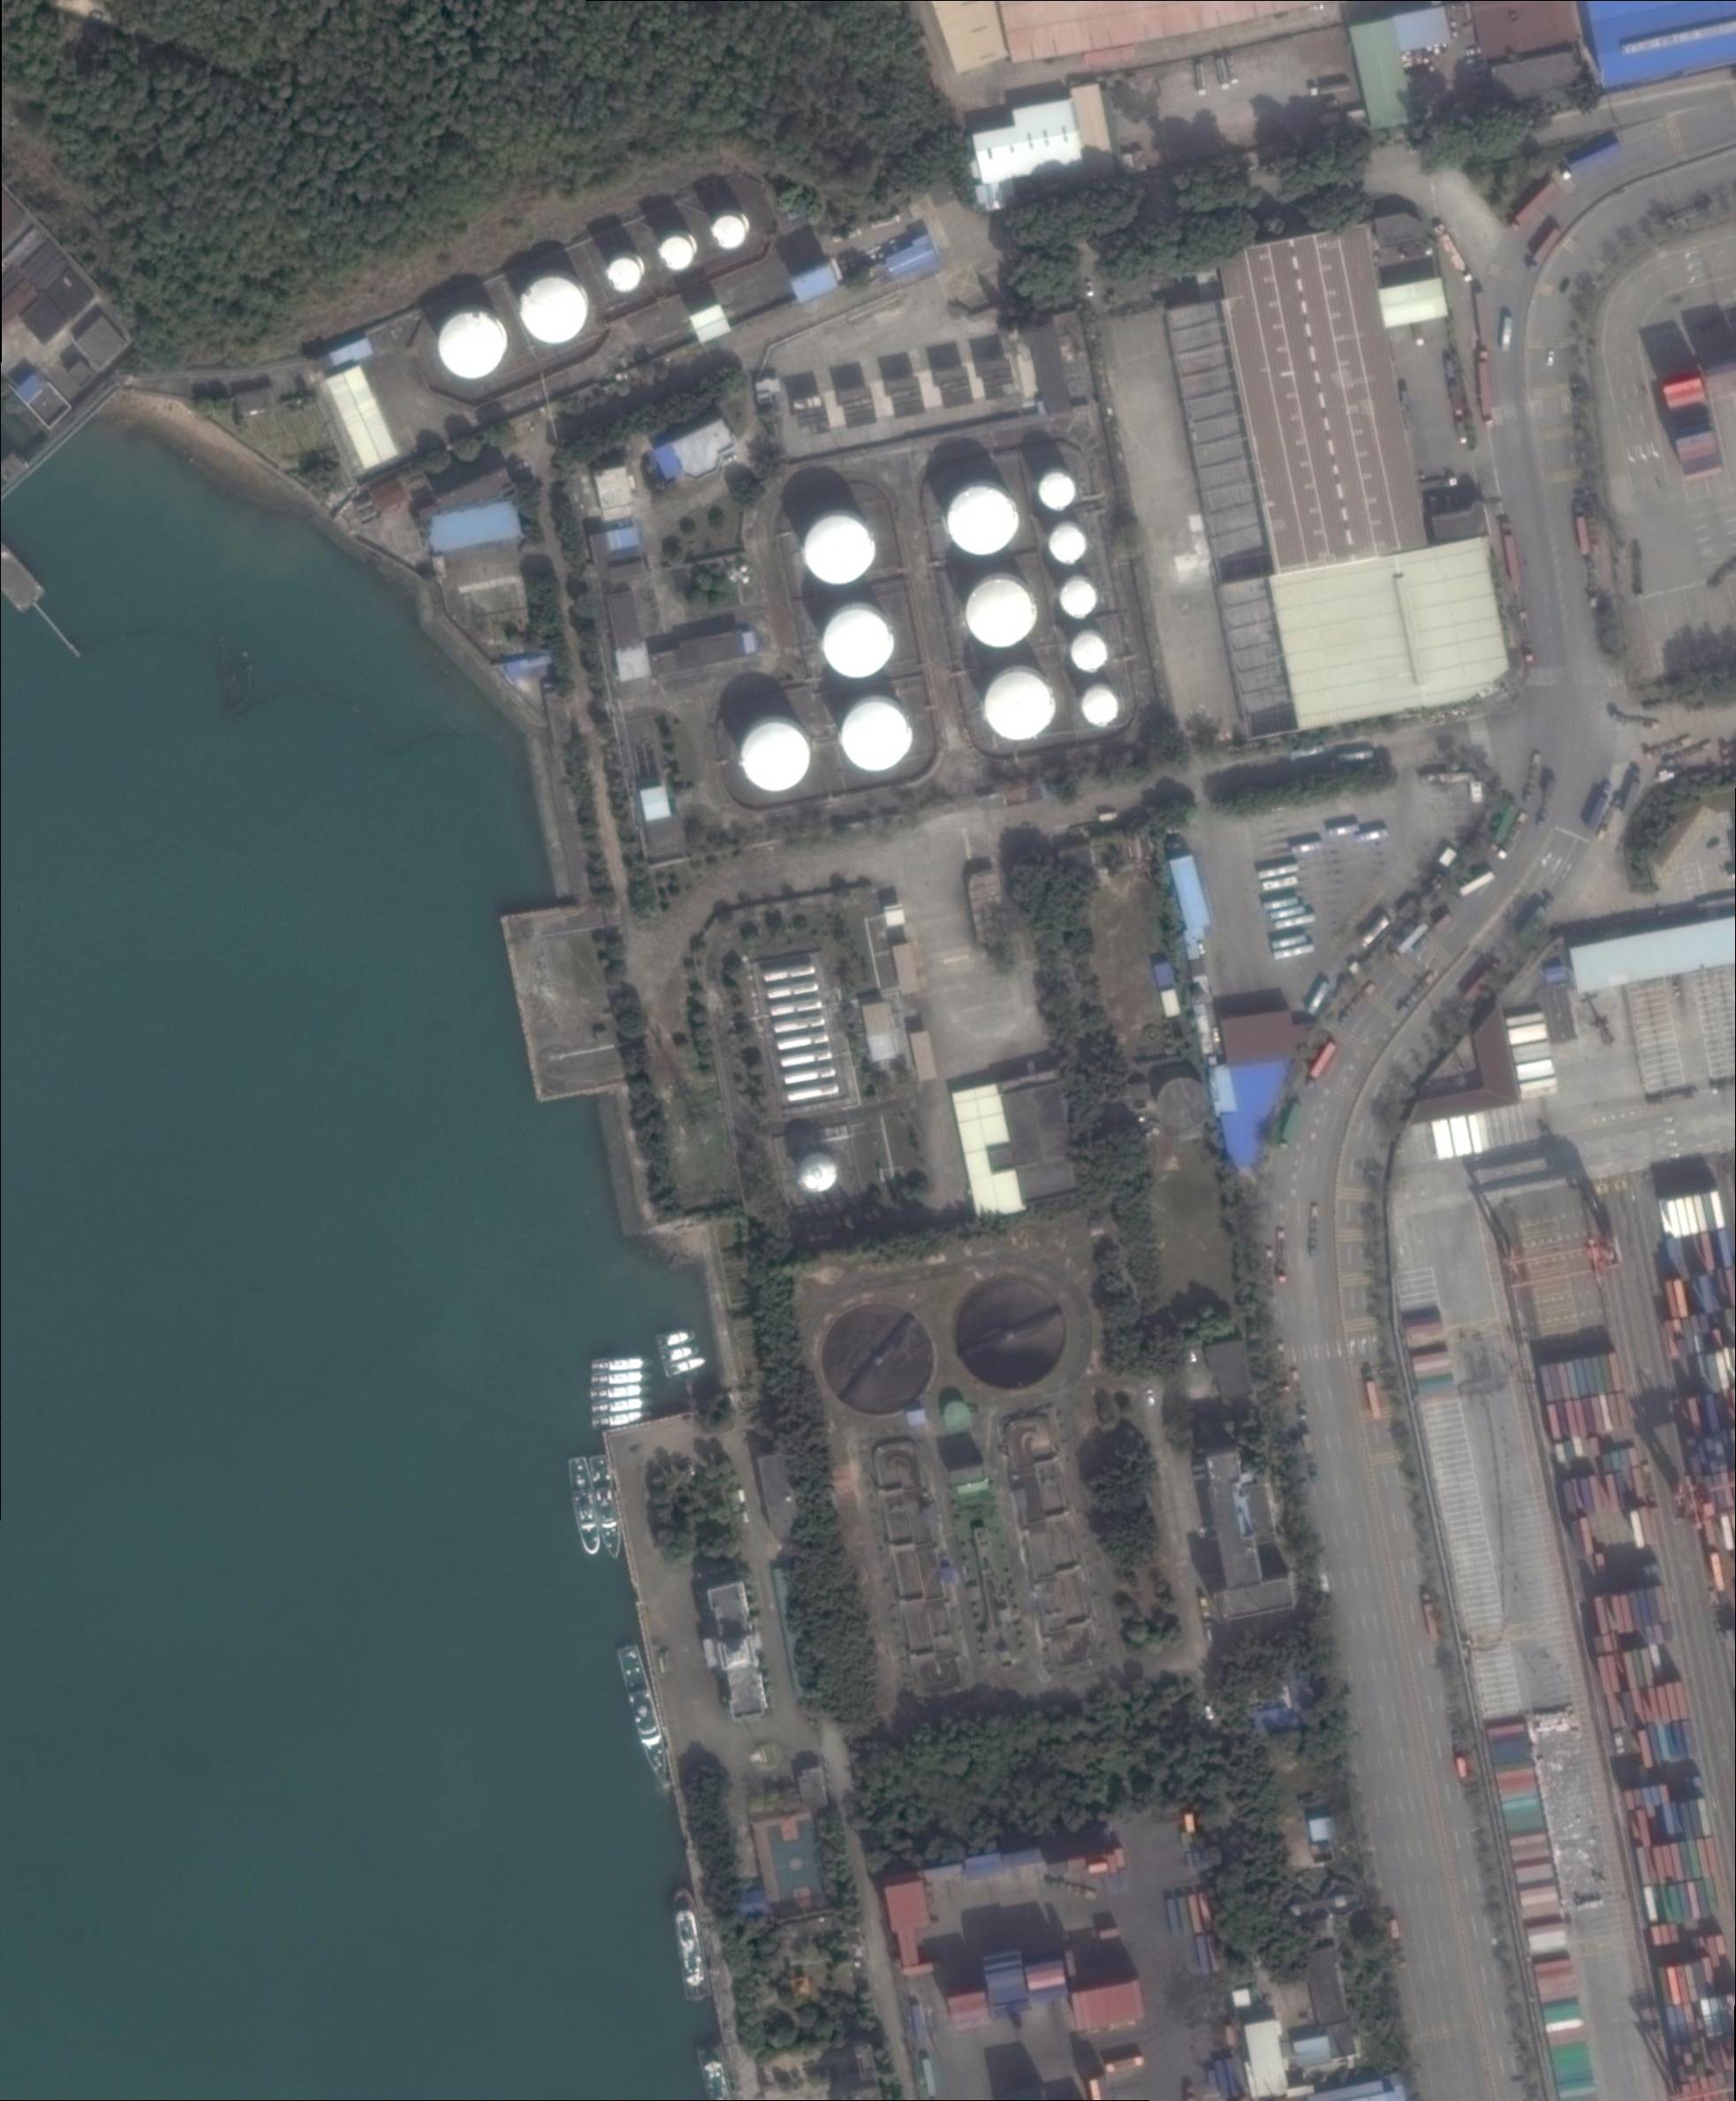large vehicle: (1434, 223, 1474, 284), (1511, 181, 1558, 230), (1562, 141, 1621, 178), (1398, 970, 1438, 1017), (1497, 811, 1530, 860), (1391, 921, 1431, 962), (1338, 982, 1377, 1023), (1305, 1042, 1338, 1087), (1528, 229, 1562, 270), (1500, 522, 1521, 588), (1586, 784, 1614, 831), (1281, 1103, 1305, 1150), (1480, 363, 1495, 429), (1523, 754, 1544, 803), (1359, 916, 1391, 948), (1460, 871, 1495, 897), (1364, 1373, 1384, 1420), (1574, 504, 1591, 555), (1307, 981, 1331, 1016), (1520, 611, 1535, 665), (1422, 1593, 1439, 1639), (1256, 864, 1300, 879), (1310, 82, 1350, 98), (1274, 944, 1314, 960), (1275, 914, 1316, 930), (1272, 934, 1307, 951), (1270, 906, 1305, 921), (1263, 876, 1298, 892), (1214, 58, 1230, 91), (1291, 839, 1324, 855), (1357, 829, 1391, 845), (1263, 897, 1300, 911), (1328, 824, 1361, 838), (1277, 1230, 1286, 1283), (1500, 318, 1513, 354), (1225, 52, 1239, 84), (1195, 63, 1207, 96)
ship: (616, 1644, 673, 1790), (670, 1886, 714, 2002), (588, 1454, 626, 1562), (567, 1455, 605, 1558), (591, 1410, 654, 1431), (591, 1396, 654, 1415), (591, 1370, 653, 1387), (663, 1354, 707, 1379), (660, 1342, 700, 1366), (591, 1384, 651, 1400), (656, 1326, 696, 1349), (591, 1358, 654, 1372)
storage tank: (804, 517, 876, 585), (949, 487, 1017, 557), (984, 674, 1054, 742), (841, 703, 911, 771), (742, 724, 810, 794), (825, 609, 893, 679), (436, 311, 506, 379), (967, 581, 1035, 649), (520, 277, 586, 344), (1157, 1078, 1211, 1133), (799, 1153, 837, 1192), (1082, 688, 1118, 726), (1040, 473, 1076, 510), (1049, 527, 1085, 564), (1061, 581, 1097, 618), (1071, 637, 1106, 670), (660, 236, 693, 270), (607, 257, 640, 291), (714, 216, 745, 250)
